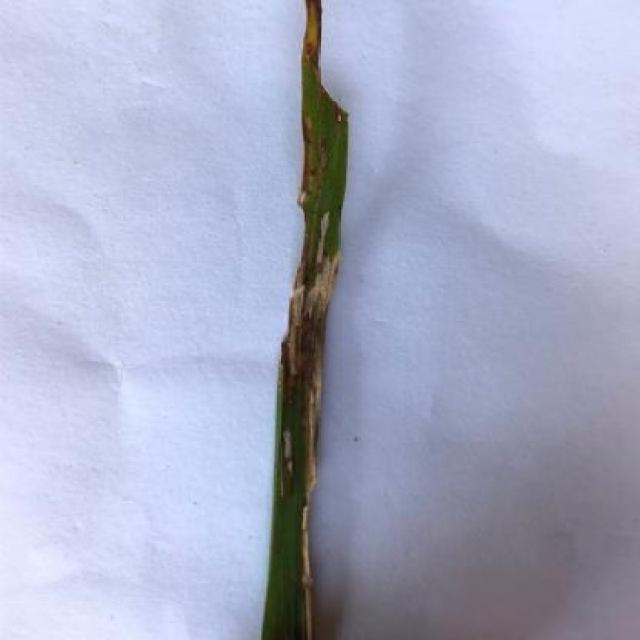Brown_Spot: (254, 0, 354, 640)
